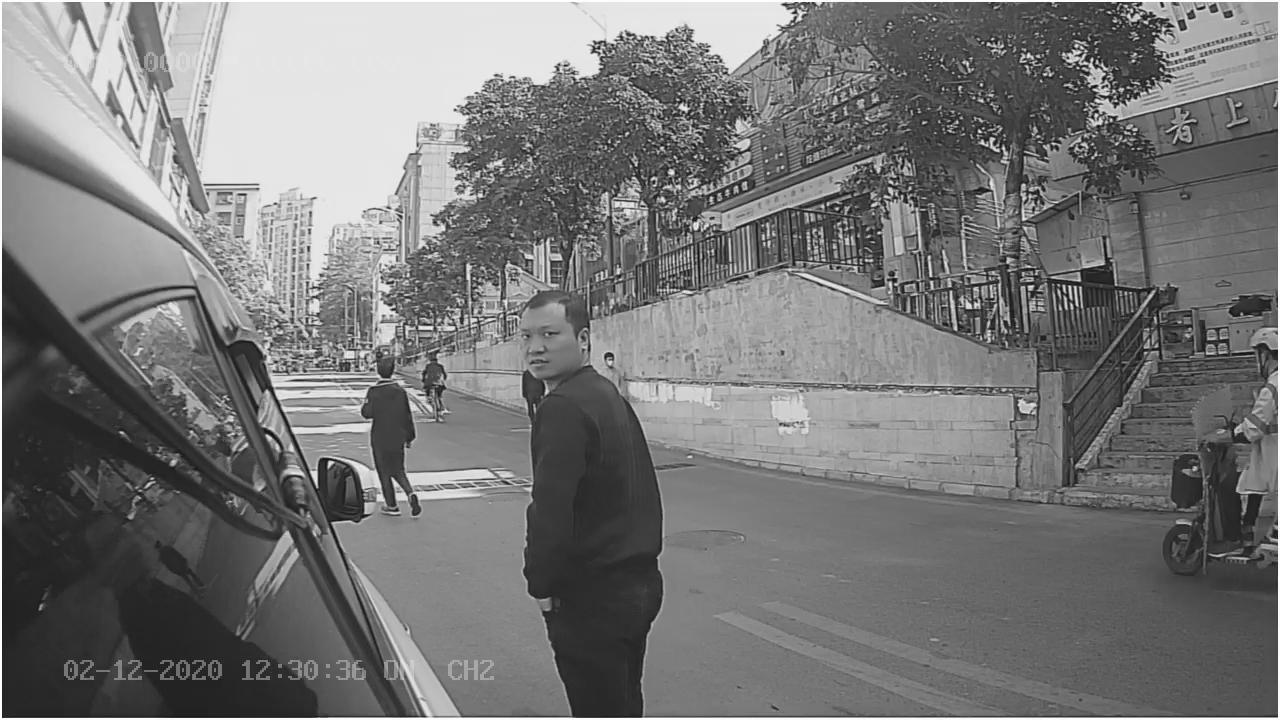person: (504, 285, 669, 617)
